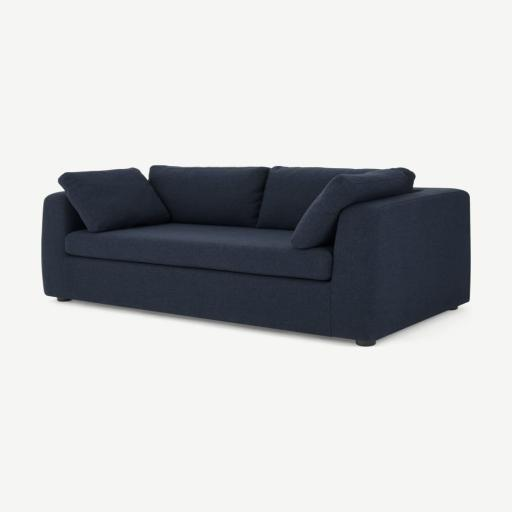back_cushion: (149, 165, 373, 230)
base: (58, 256, 330, 335)
left_arm: (331, 189, 470, 340)
legs: (356, 339, 378, 346), (57, 297, 70, 302), (448, 306, 458, 310)
one-seater: (41, 165, 469, 346)
right_arm: (41, 192, 84, 300)
seat_cushion: (65, 223, 333, 280)
